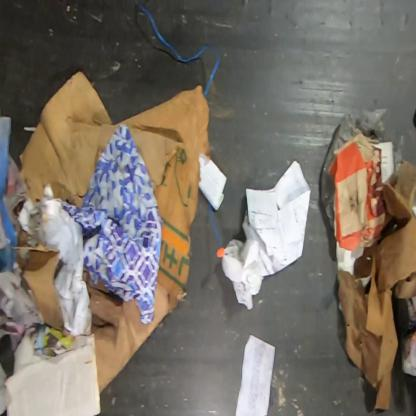cardboard: (19, 68, 211, 395), (337, 160, 415, 412), (327, 132, 385, 252), (12, 243, 67, 331)
soft_plastic: (320, 109, 405, 230)
